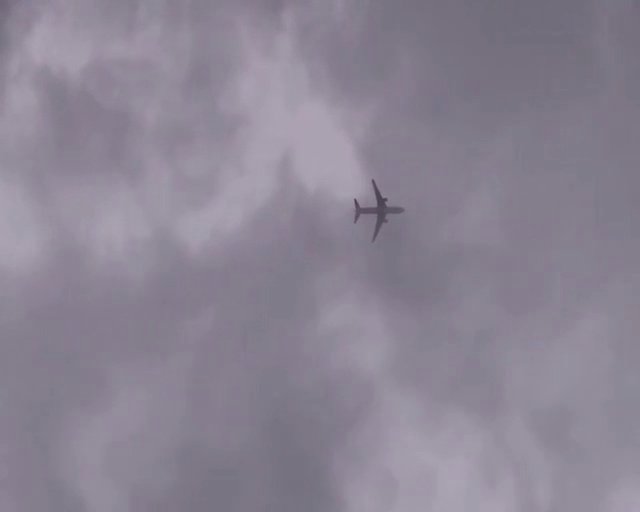AIRPLANE: (352, 178, 405, 242)
